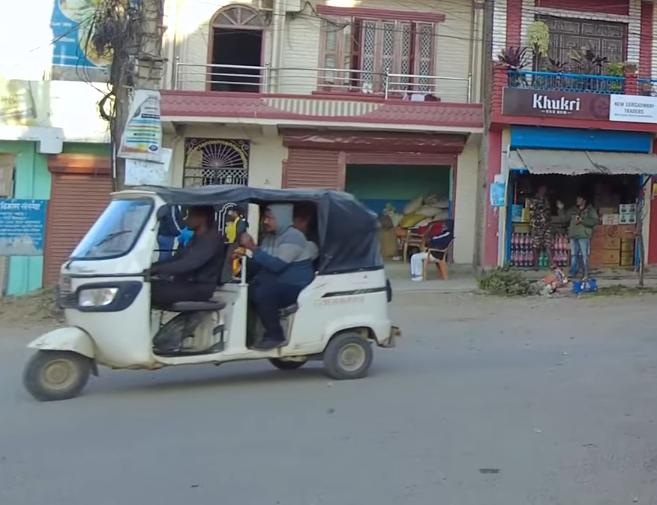auto_rickshaw: (13, 184, 406, 409)
